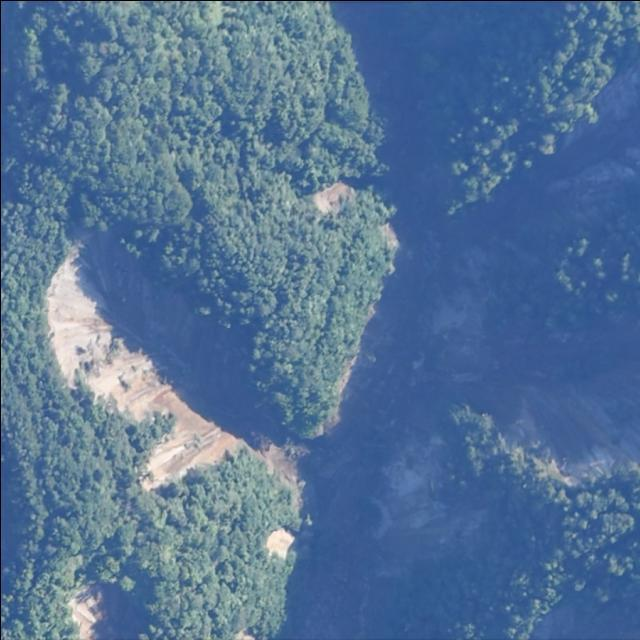landslide: (319, 204, 640, 638), (45, 240, 304, 511)
